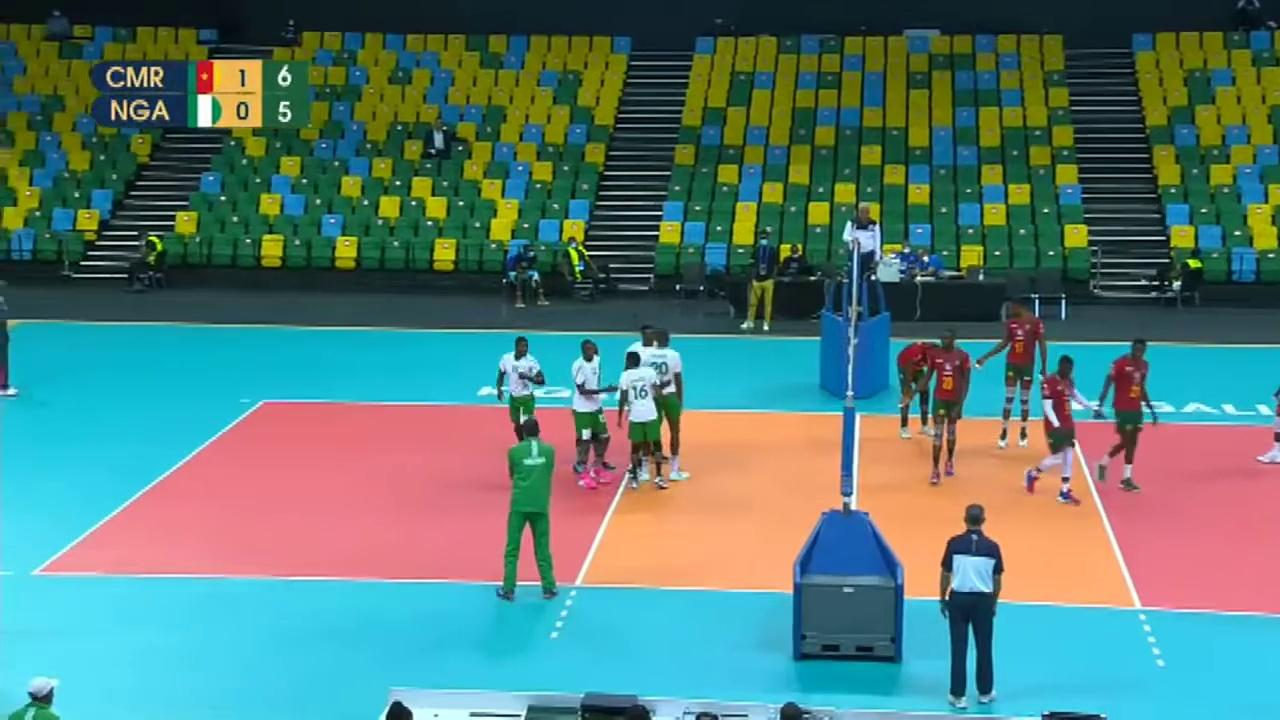player: (1028, 353, 1097, 499), (1100, 341, 1160, 492), (990, 300, 1041, 455), (924, 328, 972, 487), (619, 353, 669, 493), (644, 334, 689, 484), (567, 341, 611, 486), (500, 336, 547, 453), (889, 338, 943, 439), (632, 321, 667, 472)
refree: (940, 505, 1007, 707), (841, 200, 881, 316)
